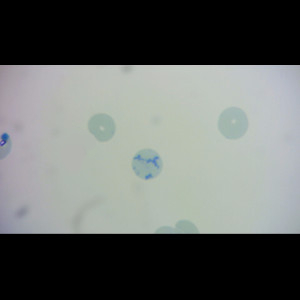aggregate reticulocyte: (131, 148, 164, 181)
erythrocyte: (217, 105, 250, 141), (87, 112, 118, 143)
